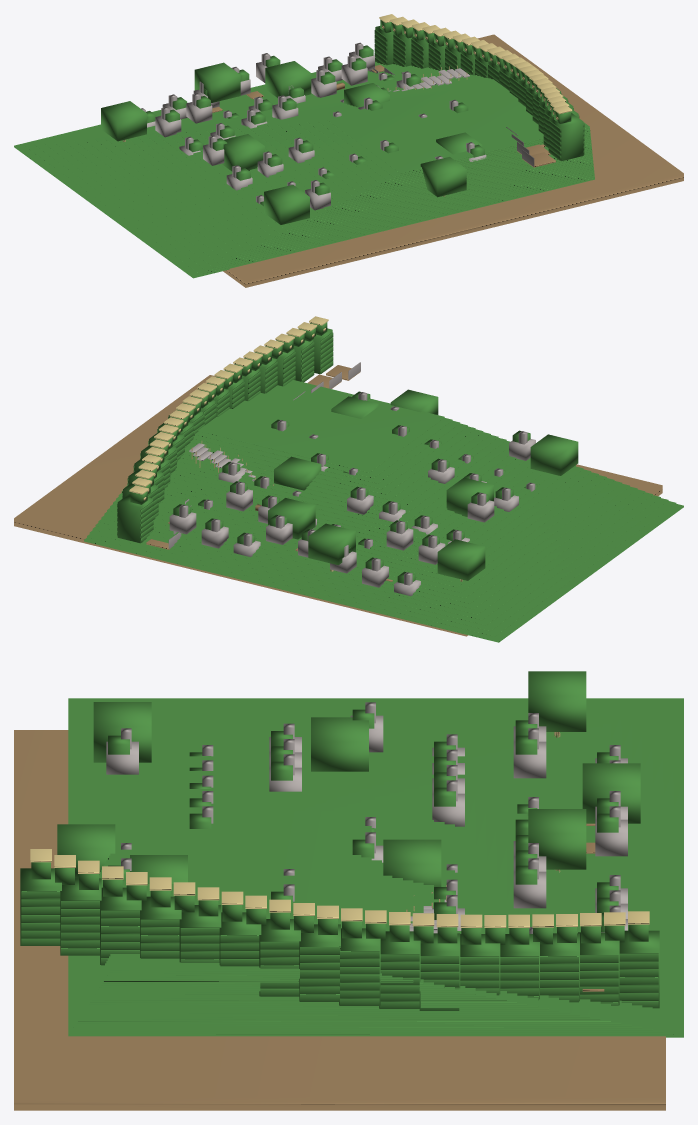
3 renders of one model, top to bottom at view 1: azimuth 30°, elevation 25°; view 2: azimuth 150°, elevation 25°; view 3: azimuth 270°, elevation 25°, orthographic. The views are drawn at different scales.
Parts seen in each view (by area): view 1: heunginjimun_park_lawn, heunginjimun_promenade_deck, heunginjimun_silver_grass, heunginjimun_city_wall; view 2: heunginjimun_park_lawn, heunginjimun_silver_grass, heunginjimun_city_wall, heunginjimun_promenade_deck; view 3: heunginjimun_park_lawn, heunginjimun_city_wall, heunginjimun_promenade_deck, heunginjimun_silver_grass.
Boxes of the visible parts, x1,y1,x2,y2 form: heunginjimun_park_lawn: (14,34,683,287); heunginjimun_promenade_deck: (101,61,555,224); heunginjimun_silver_grass: (141,42,486,210); heunginjimun_city_wall: (374,14,584,161); heunginjimun_park_lawn: (14,375,683,642); heunginjimun_silver_grass: (169,391,537,596); heunginjimun_city_wall: (117,316,333,543); heunginjimun_promenade_deck: (146,362,578,581); heunginjimun_park_lawn: (14,698,683,1110); heunginjimun_city_wall: (20,849,659,1010); heunginjimun_promenade_deck: (57,671,640,933); heunginjimun_silver_grass: (106,702,627,933).
Size of the model in its own units: 52 by 9.82 by 37.
Materials: 4 (4 with a texture image).
